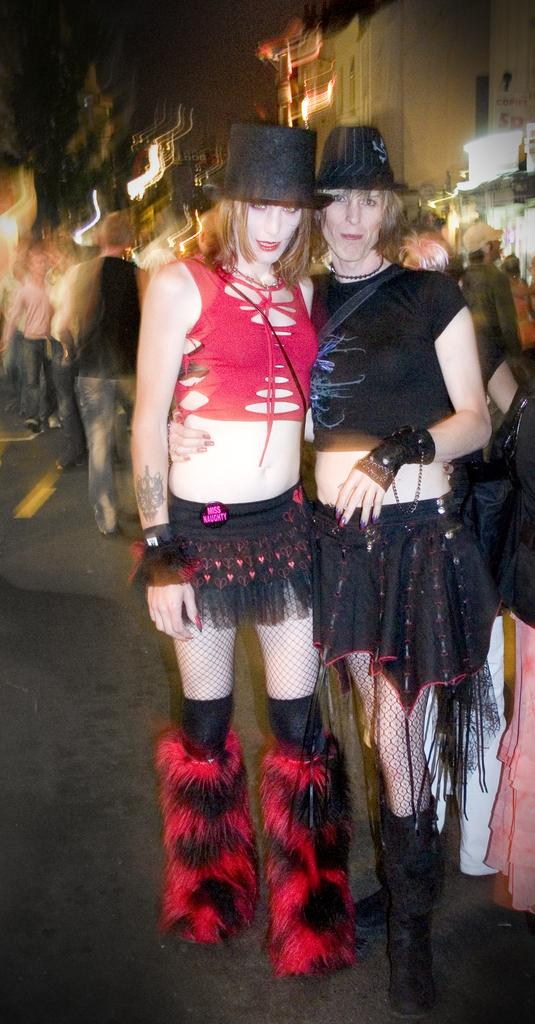Hat: (206, 121, 341, 218), (316, 120, 416, 197)
